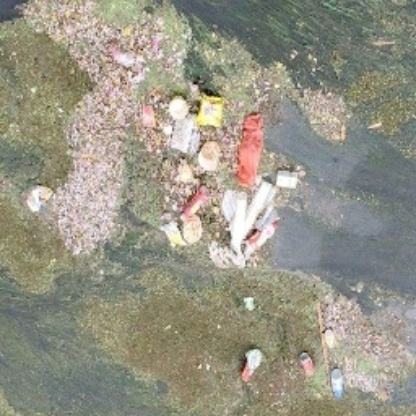bottle: (175, 185, 212, 221)
plastic-bag: (235, 112, 264, 189)
